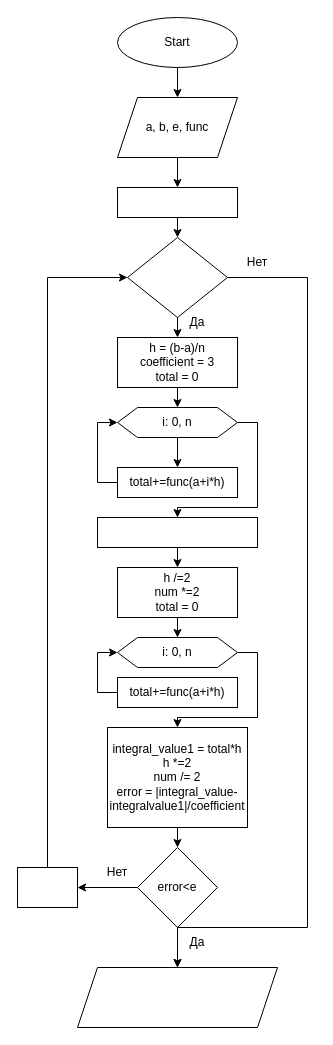
Some shapes in this 333 by 1045 pixel diagram are drawn without their labels. The shapes that lost their labels are listed below. From the top down, each one's centre as x and y in pixels, then its label:
pixel 177 202: num = 4
pixel 177 277: num <=100000
pixel 177 532: integral_value = total*h
pixel 47 887: num*=2
pixel 177 997: integral_value, num, error
